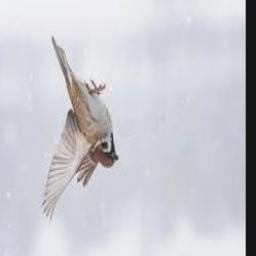Sparrow: (40, 37, 118, 222)
